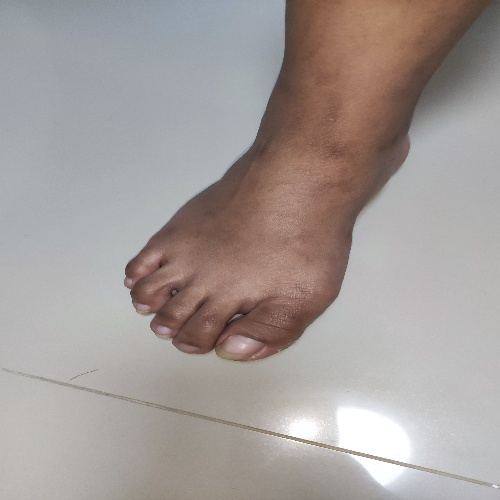3: (214, 289, 309, 360)
4: (375, 119, 410, 182)
Top_Foot: (127, 121, 412, 361)
